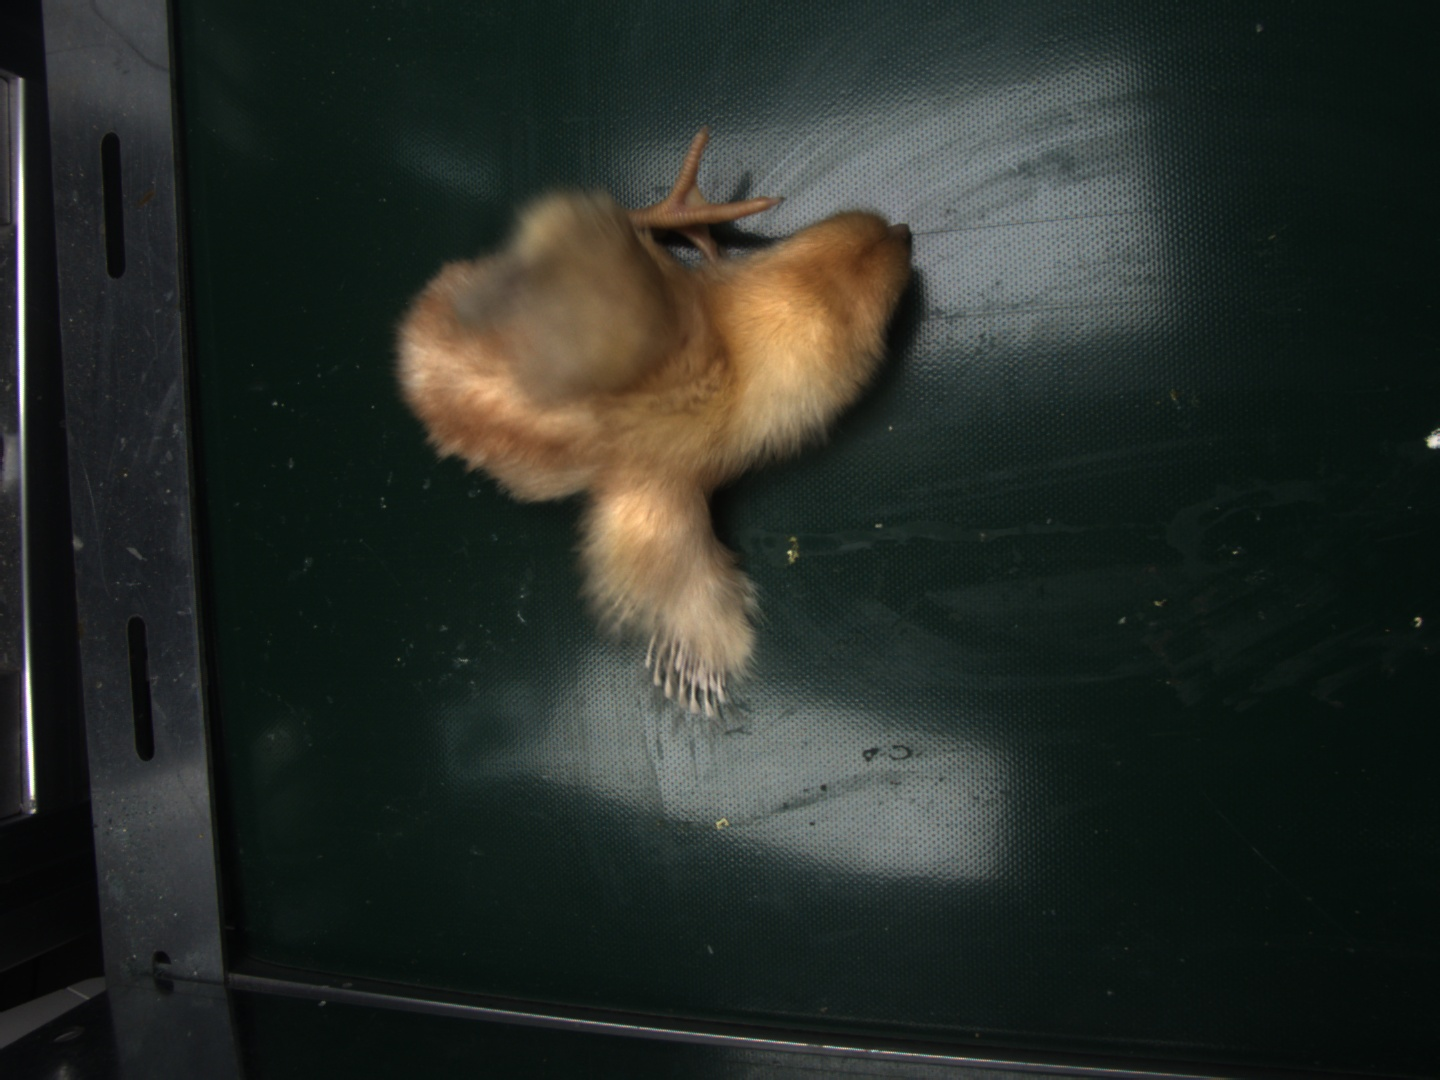female: (649, 627, 735, 716)
